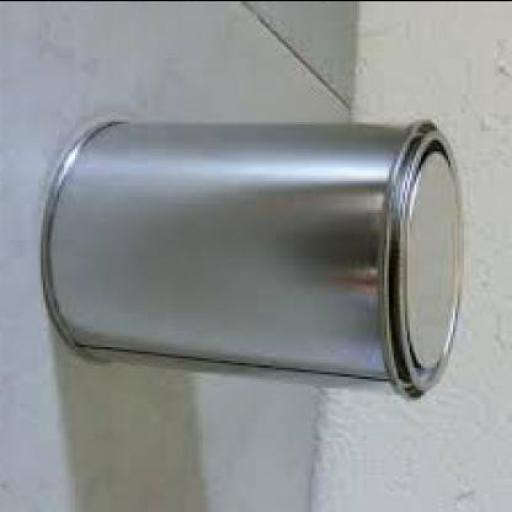metal: (43, 120, 467, 401)
